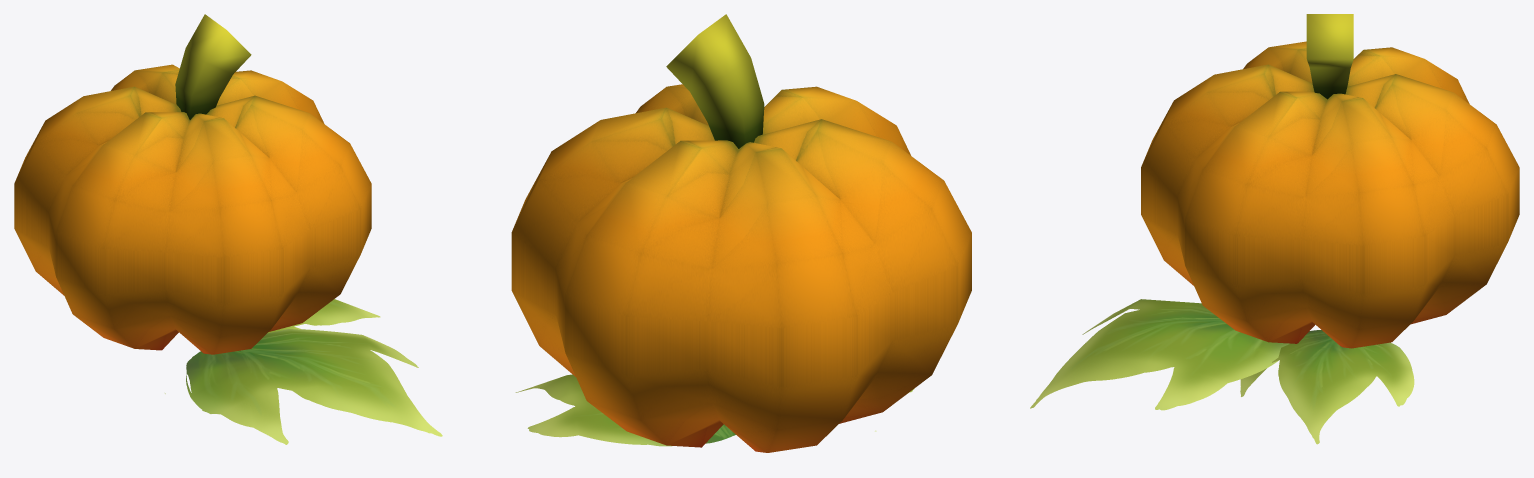
File: Pumpkin_1.FBX
The picture shows the model from 3 angles, left to right: view 1: azimuth 30°, elevation 25°; view 2: azimuth 150°, elevation 25°; view 3: azimuth 270°, elevation 25°; orthographic projection. The views are drawn at different scales.
Visible parts, largest first — view 1: Pumpkin; view 2: Pumpkin; view 3: Pumpkin.
Part boxes in pixels (x1=…): Pumpkin: x1=14, y1=14, x2=442, y2=444; Pumpkin: x1=511, y1=14, x2=971, y2=452; Pumpkin: x1=1030, y1=14, x2=1519, y2=444.
Bounding box in the file's own units: 25.54 × 30.52 × 23.97.
